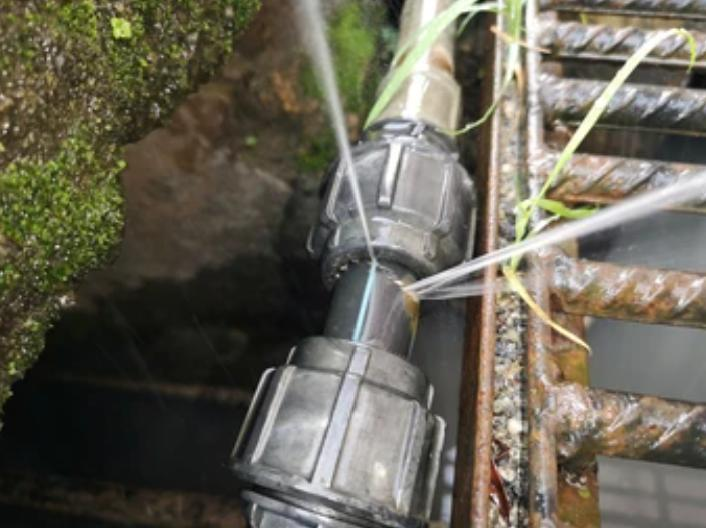pipe burst: (405, 170, 706, 303), (288, 0, 383, 267)
